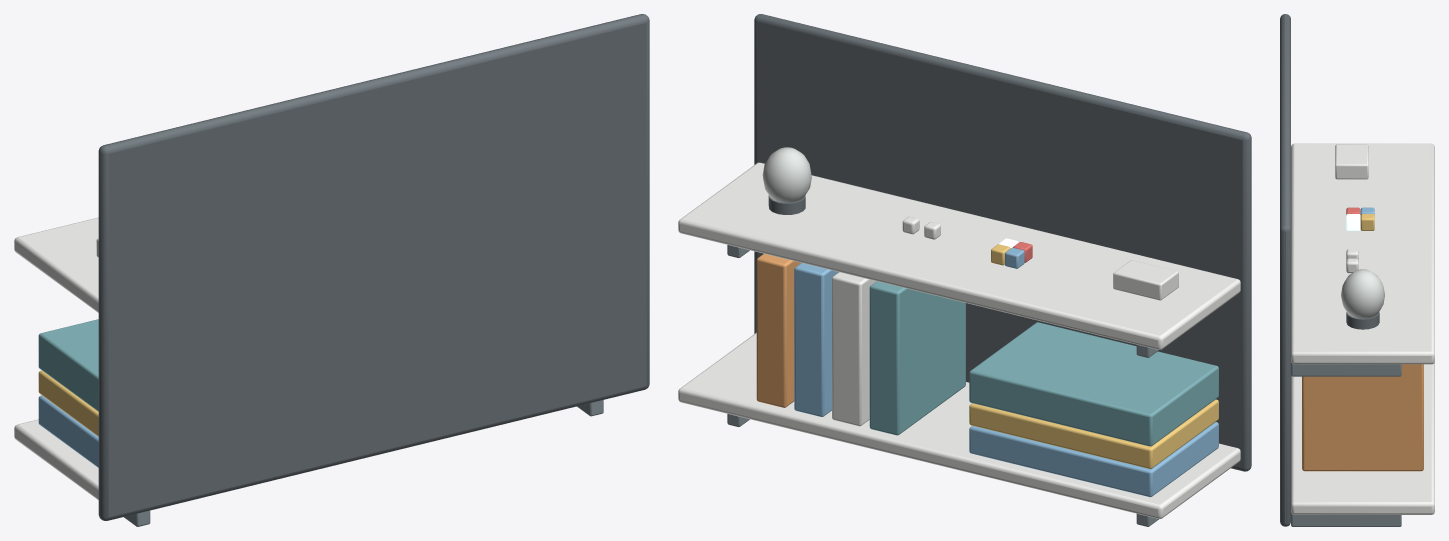
File: games_shelf.glb
3 renders of one model, left to right at view 1: azimuth 30°, elevation 25°; view 2: azimuth 150°, elevation 25°; view 3: azimuth 270°, elevation 25°, orthographic. The views are drawn at different scales.
Visible parts, largest first — view 1: back_plate_graphite, shelf_102_white_painted, game_2_game_box_teal, shelf_72_white_painted, game_0_game_box_cool_blue, game_1_game_box_amber; view 2: back_plate_graphite, shelf_102_white_painted, game_2_game_box_teal, shelf_72_white_painted, standing_0_game_box_teal, game_0_game_box_cool_blue, standing_3_orange, game_1_game_box_amber, standing_2_game_box_cool_blue, standing_1_white_painted, trophy_cup_satin_steel, cards_white_painted; view 3: shelf_102_white_painted, standing_3_orange, shelf_72_white_painted, back_plate_graphite, trophy_cup_satin_steel, brackets_102_dark_alloy, brackets_72_dark_alloy, cards_white_painted, trophy_base_graphite, dice_white_painted, cube_3_amber, cube_1_screen_green.
Boxes of the visible parts, x1,y1,x2,y2 form: back_plate_graphite: (98,14,649,520); shelf_102_white_painted: (14,217,98,312); game_2_game_box_teal: (38,319,98,411); shelf_72_white_painted: (14,419,98,499); game_0_game_box_cool_blue: (38,395,98,467); game_1_game_box_amber: (38,370,98,436); back_plate_graphite: (754,14,1251,471); shelf_102_white_painted: (678,162,1240,349); game_2_game_box_teal: (969,322,1218,446); shelf_72_white_painted: (678,332,1240,518); standing_0_game_box_teal: (869,281,965,435); game_0_game_box_cool_blue: (969,422,1218,497); standing_3_orange: (756,254,800,407); game_1_game_box_amber: (969,399,1218,468); standing_2_game_box_cool_blue: (794,263,838,416); standing_1_white_painted: (832,272,876,426); trophy_cup_satin_steel: (762,147,811,202); cards_white_painted: (1113,260,1178,300); shelf_102_white_painted: (1291,143,1434,364); standing_3_orange: (1302,364,1423,471); shelf_72_white_painted: (1291,362,1434,514); back_plate_graphite: (1280,14,1290,526); trophy_cup_satin_steel: (1341,269,1384,318); brackets_102_dark_alloy: (1291,361,1401,376); brackets_72_dark_alloy: (1291,512,1401,526); cards_white_painted: (1335,144,1368,179); trophy_base_graphite: (1346,312,1379,329); dice_white_painted: (1346,249,1358,273); cube_3_amber: (1360,214,1374,230); cube_1_screen_green: (1346,214,1360,230).
Bounding box in the file's own units: 0.92 × 0.63 × 0.28.
